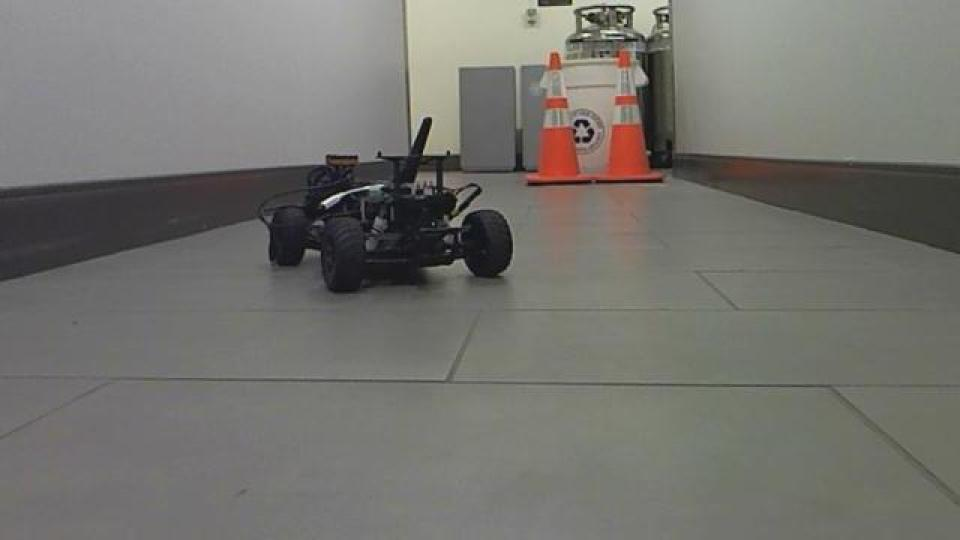car: (254, 114, 516, 296)
